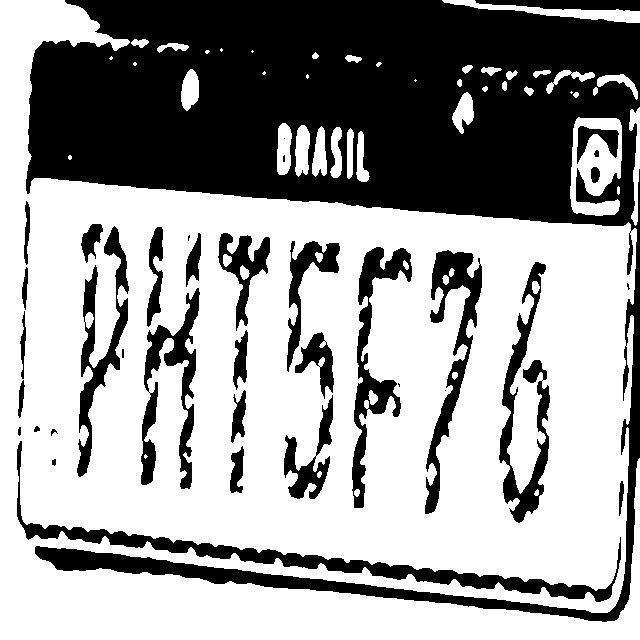5: (280, 224, 342, 524)
6: (498, 249, 565, 543)
7: (418, 245, 488, 538)
f: (346, 243, 413, 544)
h: (131, 233, 201, 512)
p: (73, 236, 129, 496)
t: (206, 229, 276, 524)
